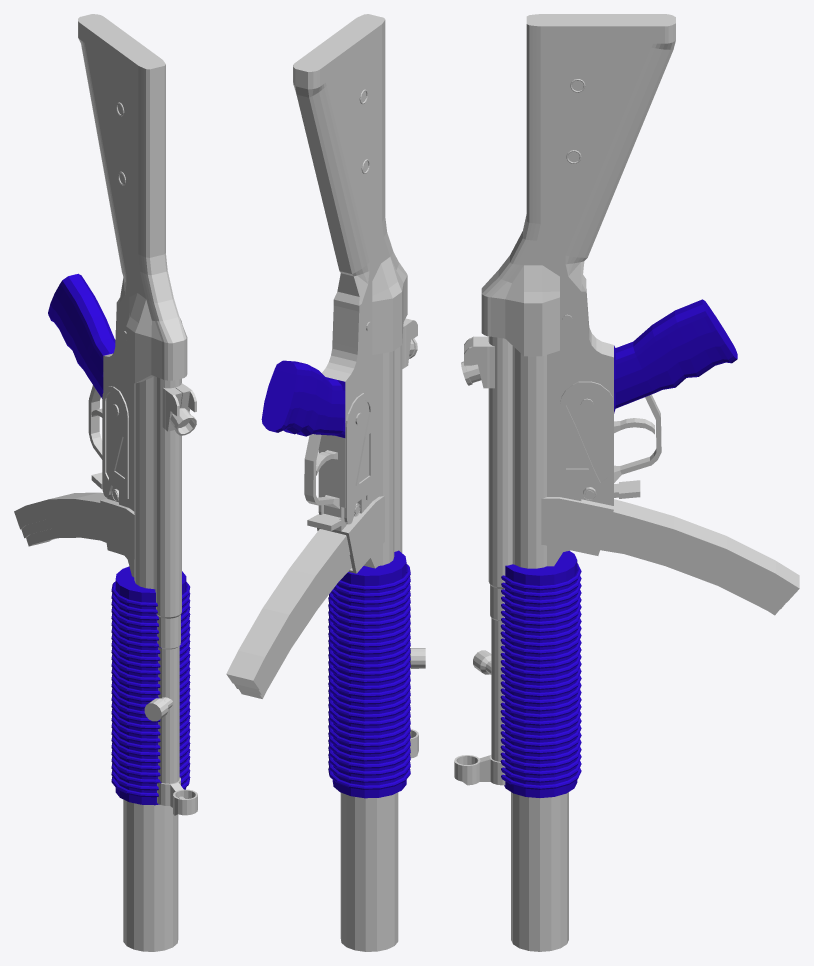
The picture shows the model from 3 angles, left to right: view 1: azimuth 30°, elevation 25°; view 2: azimuth 150°, elevation 25°; view 3: azimuth 270°, elevation 25°; orthographic projection. The views are drawn at different scales.
Visible parts, largest first — view 1: Gun; view 2: Gun; view 3: Gun.
Boxes of the visible parts, x1=… form: Gun: x1=14, y1=14, x2=197, y2=951; Gun: x1=226, y1=14, x2=425, y2=951; Gun: x1=454, y1=14, x2=799, y2=951.
Bounding box in the file's own units: 3.87 × 47.05 × 16.03.
